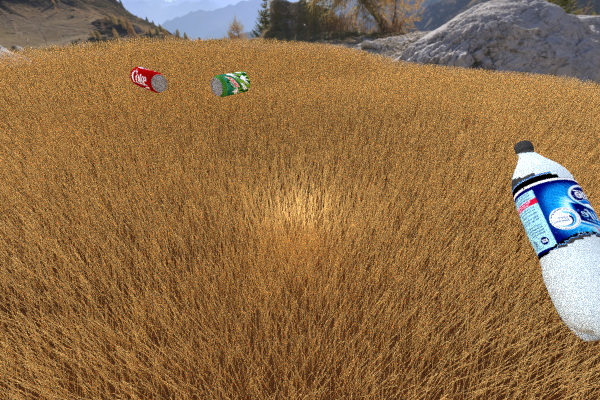Plastic Bottle: (511, 140, 600, 343), (210, 71, 250, 97), (130, 66, 167, 92)
